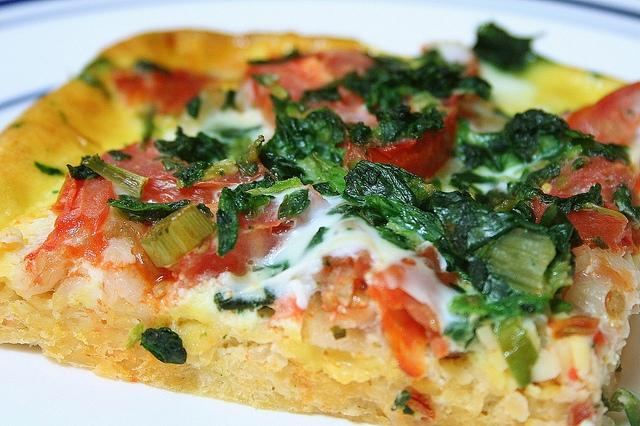tomato: (339, 95, 462, 179), (247, 52, 375, 129), (370, 244, 440, 376), (526, 196, 628, 253), (113, 65, 220, 116), (559, 80, 640, 146), (548, 156, 636, 204), (51, 180, 116, 239), (141, 176, 239, 204)
